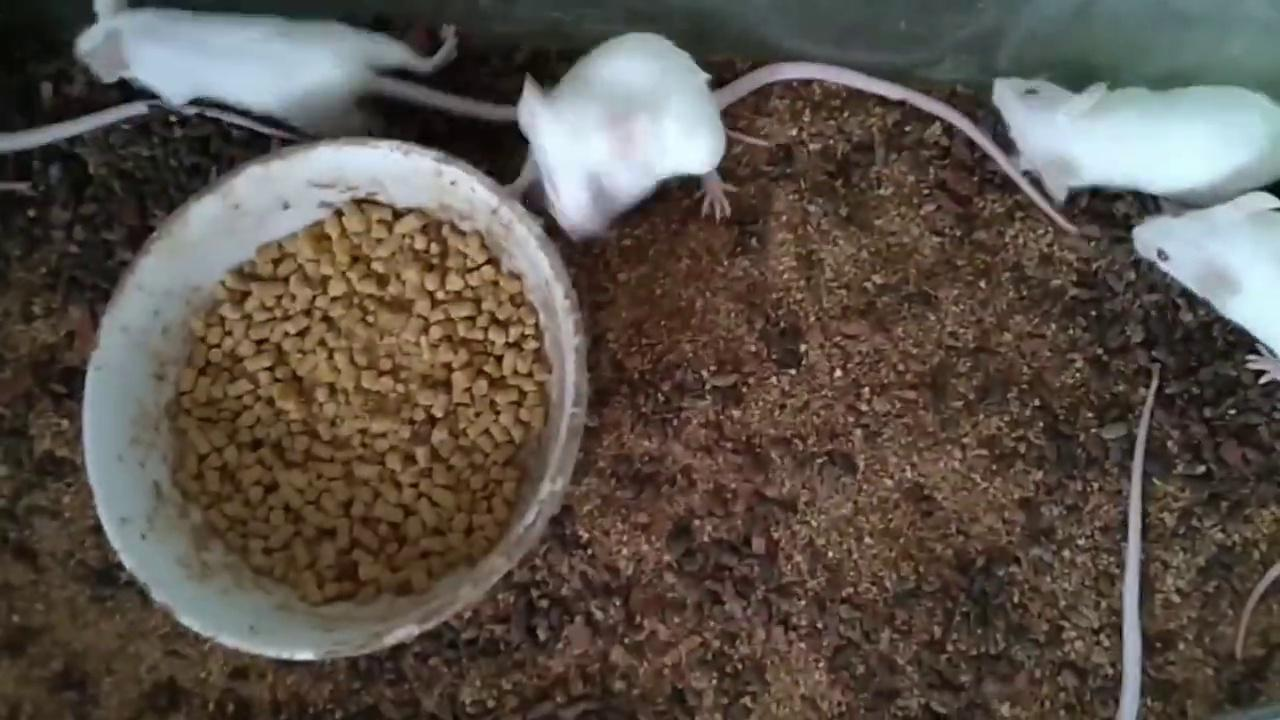rat: (506, 32, 1077, 241), (77, 0, 516, 136), (994, 76, 1280, 201), (1132, 191, 1280, 386)
